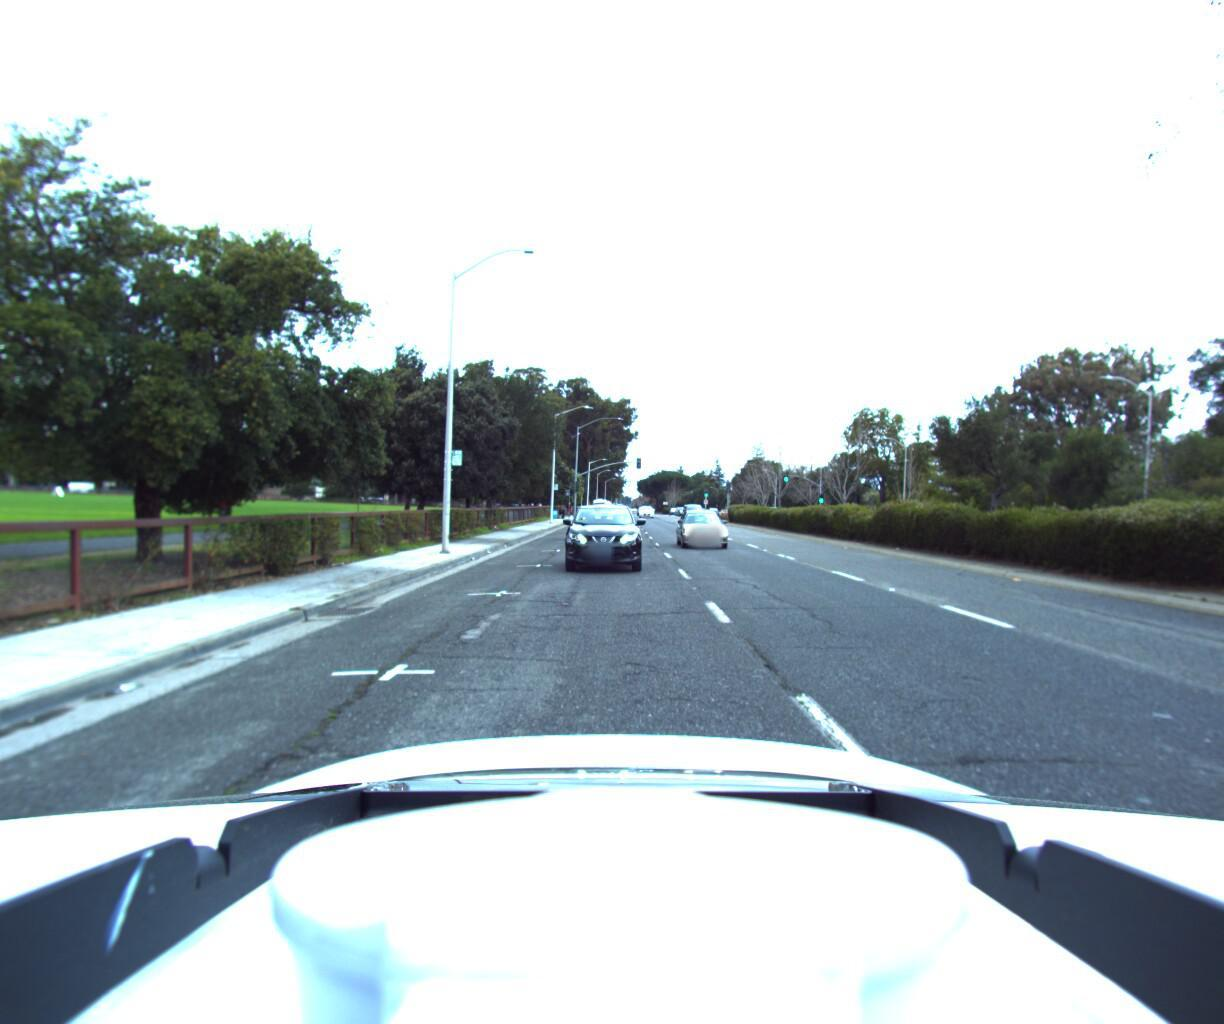car: (556, 500, 644, 574), (673, 509, 739, 554)
